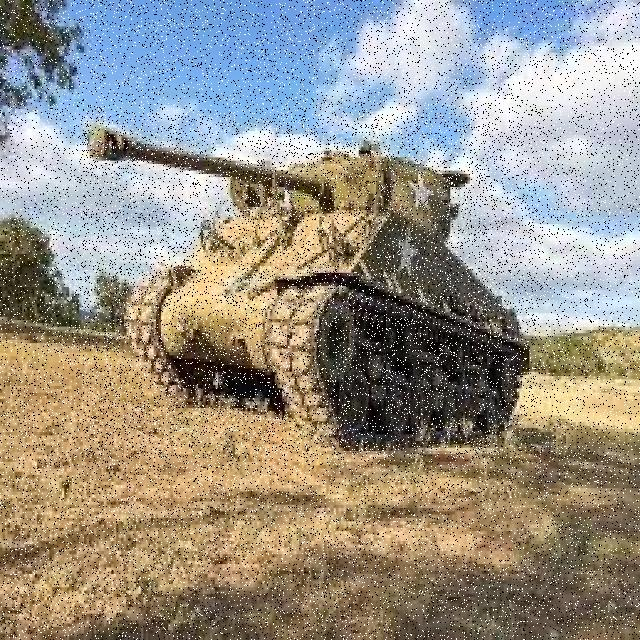MIL_MBT: (84, 112, 537, 458)
